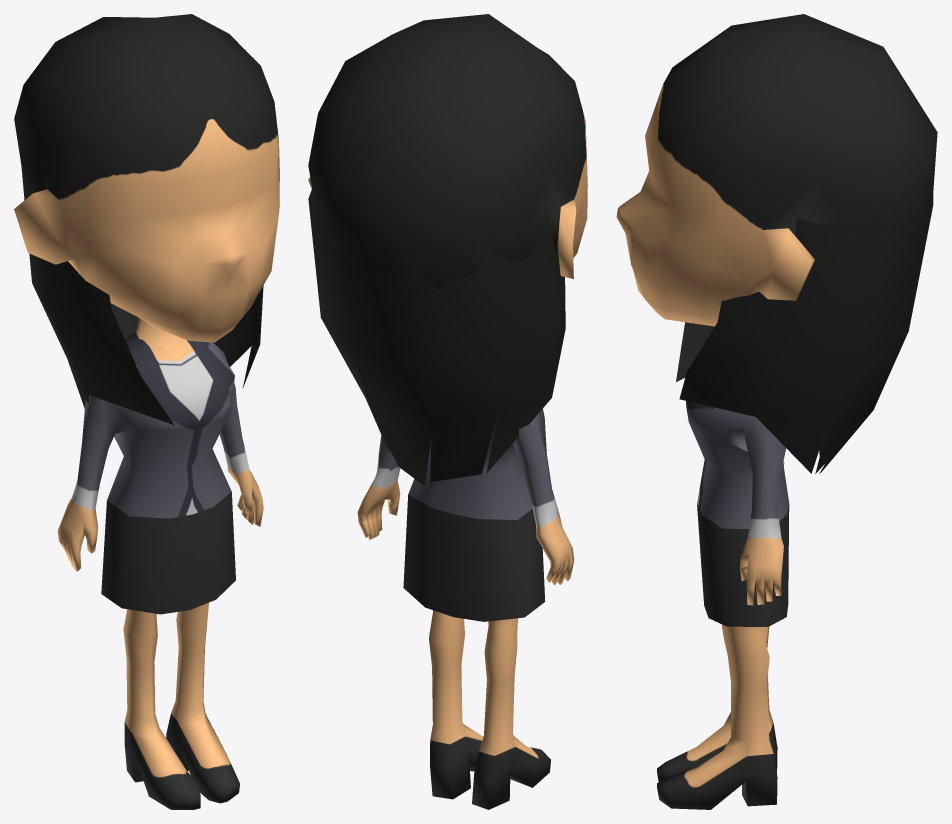
The model's file is worker_girl.FBX.
3 views of the same model, side by side, from view 1: azimuth 30°, elevation 25°; view 2: azimuth 150°, elevation 25°; view 3: azimuth 270°, elevation 25° (orthographic). The views are drawn at different scales.
Visible parts, largest first — view 1: Plane010, leg014; view 2: Plane010, leg014; view 3: Plane010, leg014.
Part boxes in pixels (x1=…): Plane010: x1=14, y1=14, x2=279, y2=425; leg014: x1=57, y1=318, x2=263, y2=809; Plane010: x1=308, y1=14, x2=587, y2=485; leg014: x1=357, y1=408, x2=574, y2=809; Plane010: x1=616, y1=14, x2=937, y2=473; leg014: x1=657, y1=401, x2=789, y2=809.
Bounding box in the file's own units: 26.66 × 74.41 × 28.44.
Materials: 2 (2 with a texture image).
